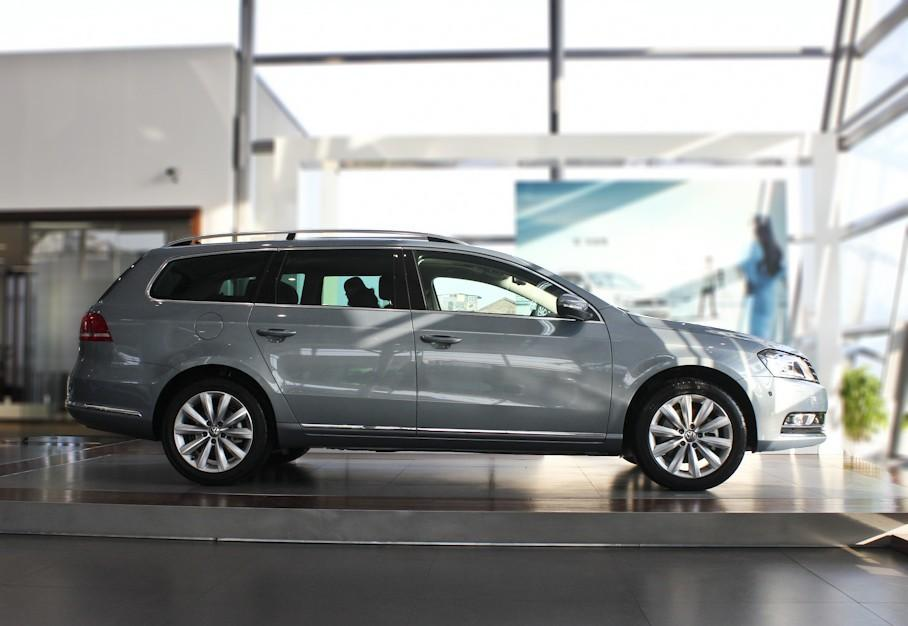Wagon: (64, 229, 827, 490)
